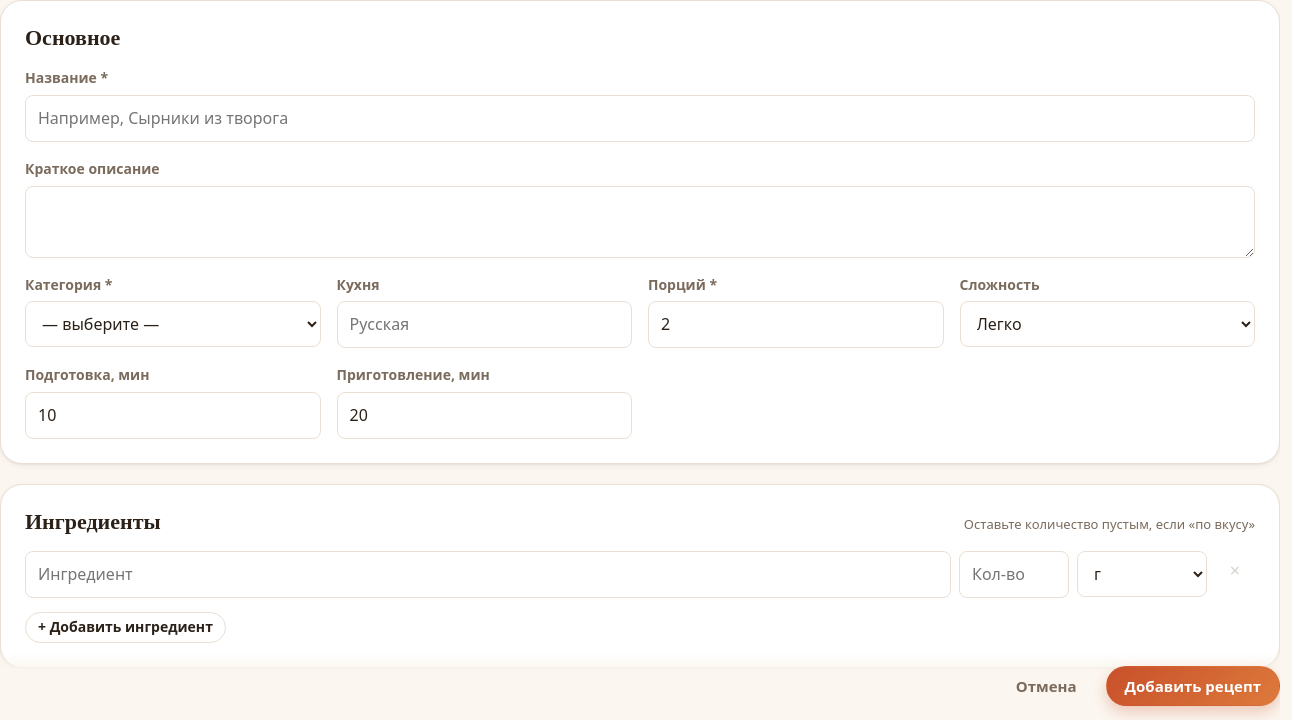
Test: RecipeForm › показывает ошибки валидации и не отправляет пустую форму
Click the button "Добавить рецепт".
click(1193, 686)  # box [1106,666,1280,706]
(page scrolled)
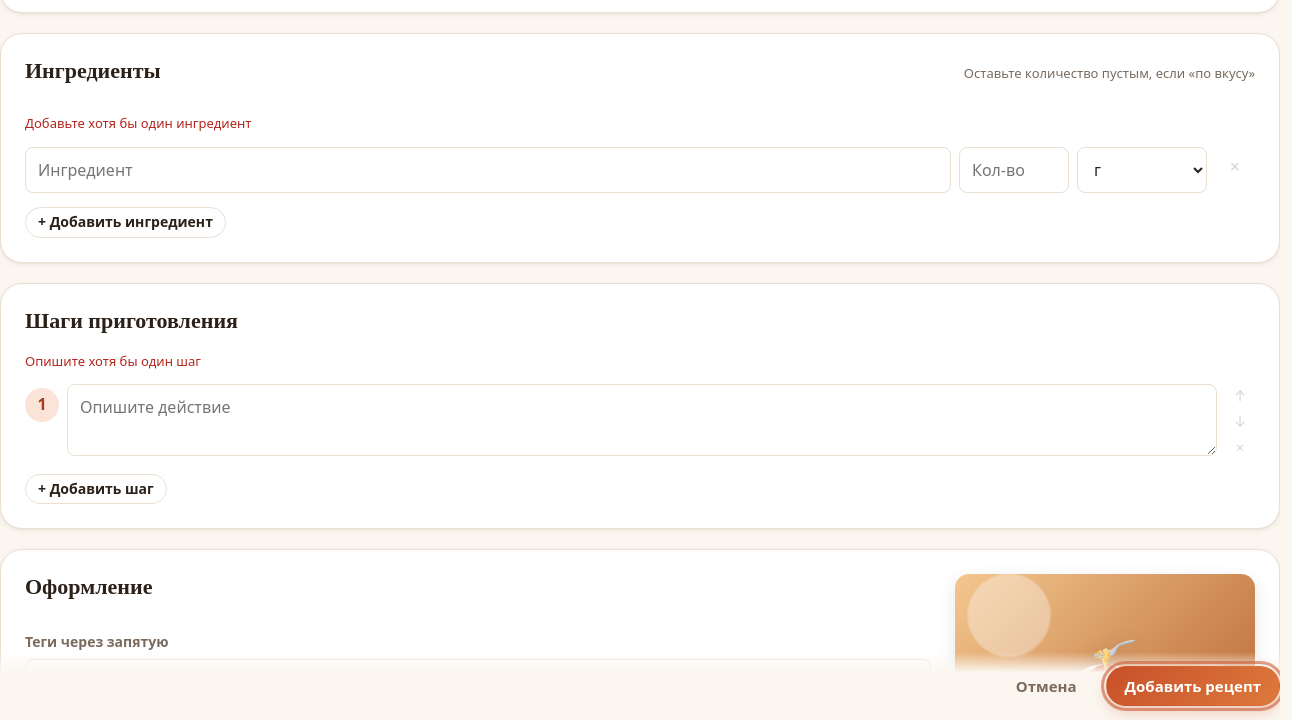
Check: the text "Опишите хотя бы один шаг" is shown, box [25,352,201,370]
